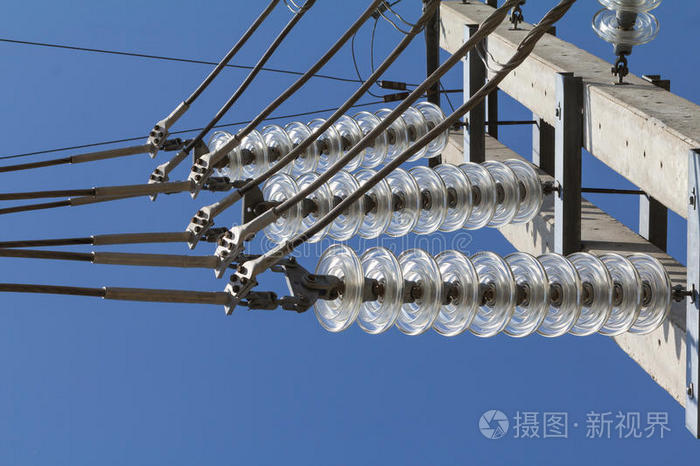insulator: (314, 240, 673, 338), (260, 159, 542, 244), (213, 105, 451, 177), (591, 1, 661, 45)
